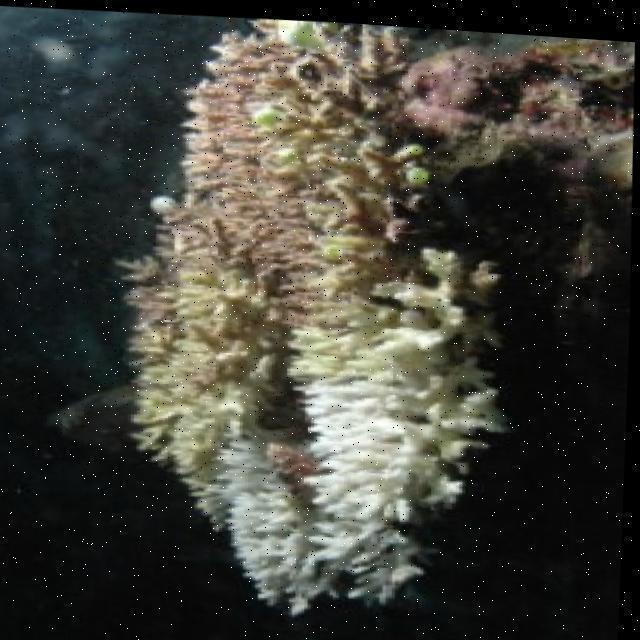Bleached Coral: (179, 272, 521, 640)
